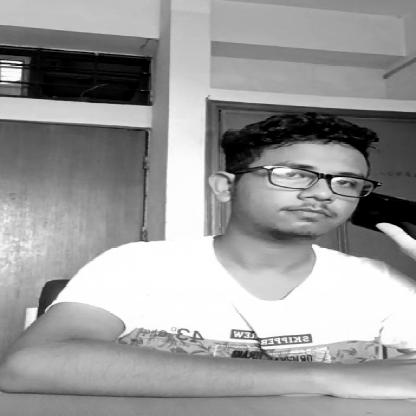Normal: (210, 141, 375, 230)
